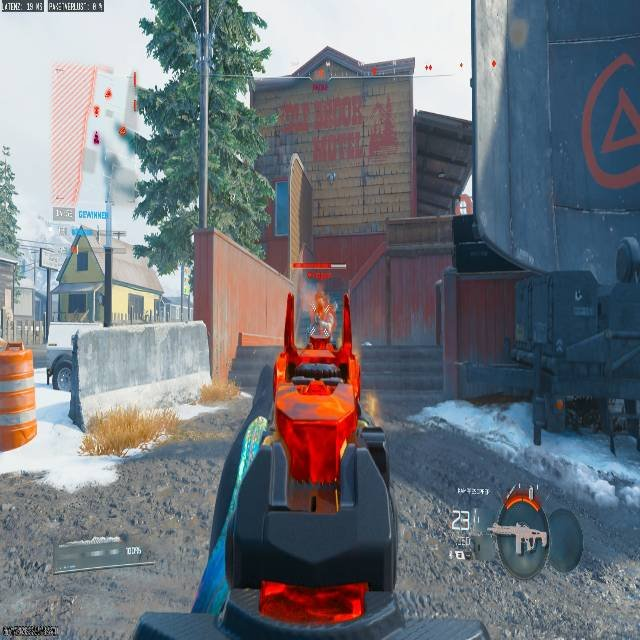player: (303, 288, 338, 350), (311, 291, 334, 336)
